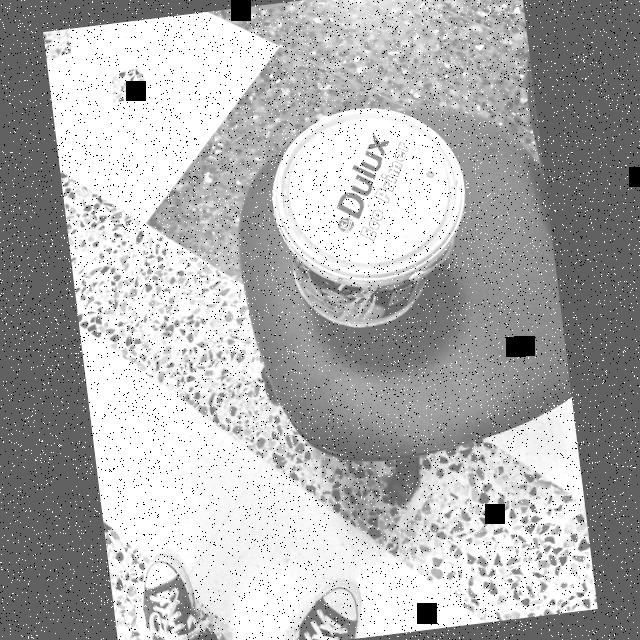paint_bucket: (260, 94, 482, 340)
